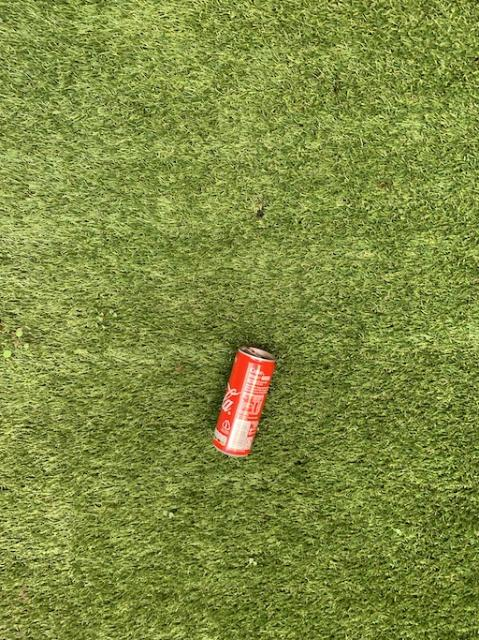metal: (213, 345, 275, 454)
